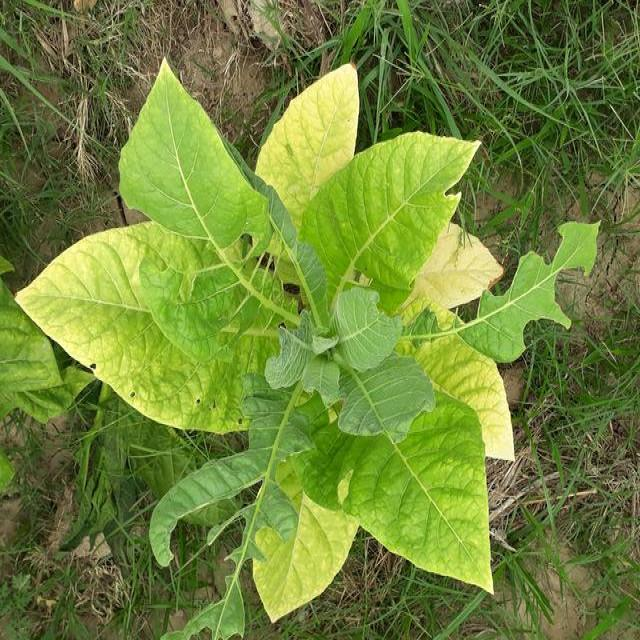crop: (18, 70, 610, 621)
